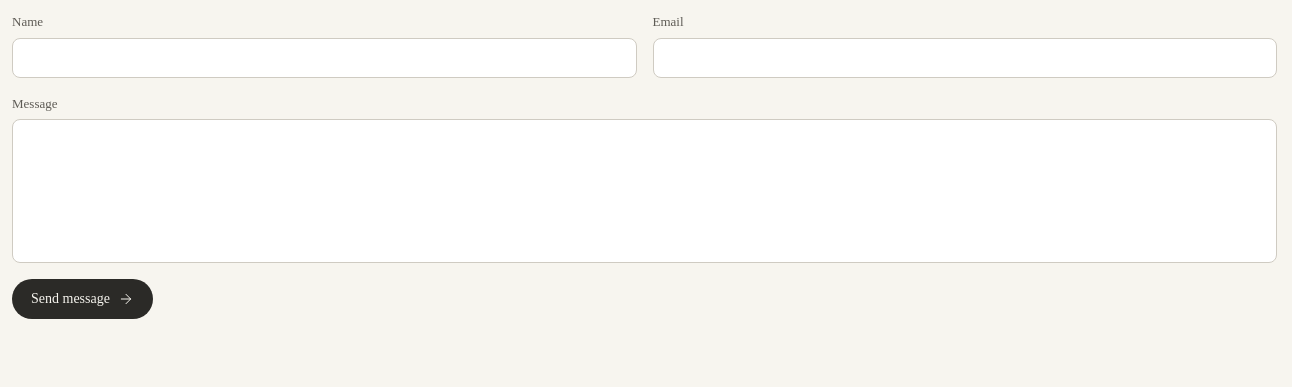
Test case: ContactForm › flags an empty required field once Send has been pressed
Click the button "Send message": click(82, 299) [12,279,153,319]
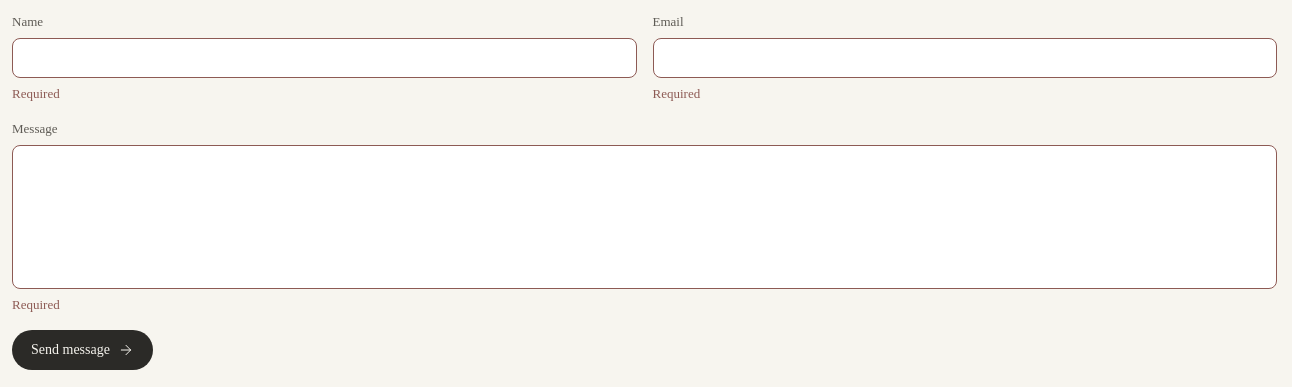
Check: the message "Required" below "Name" is shown, box [12,86,60,100]
